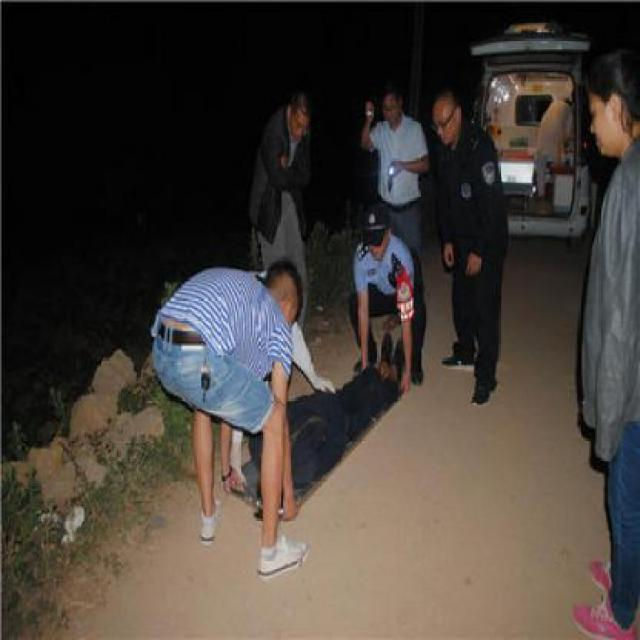fall: (237, 319, 411, 519)
